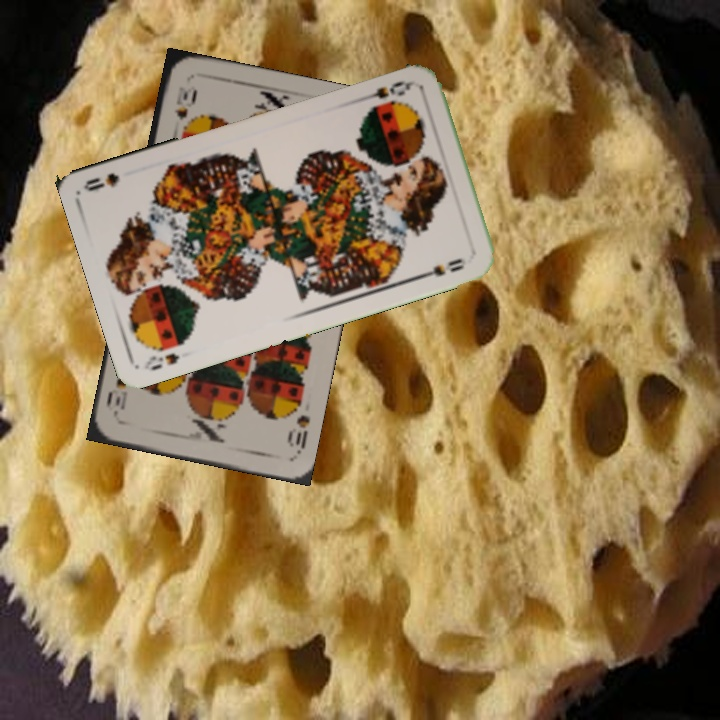S10: (283, 411, 313, 457), (170, 82, 191, 123)
SO: (359, 76, 416, 104), (140, 348, 182, 374)
